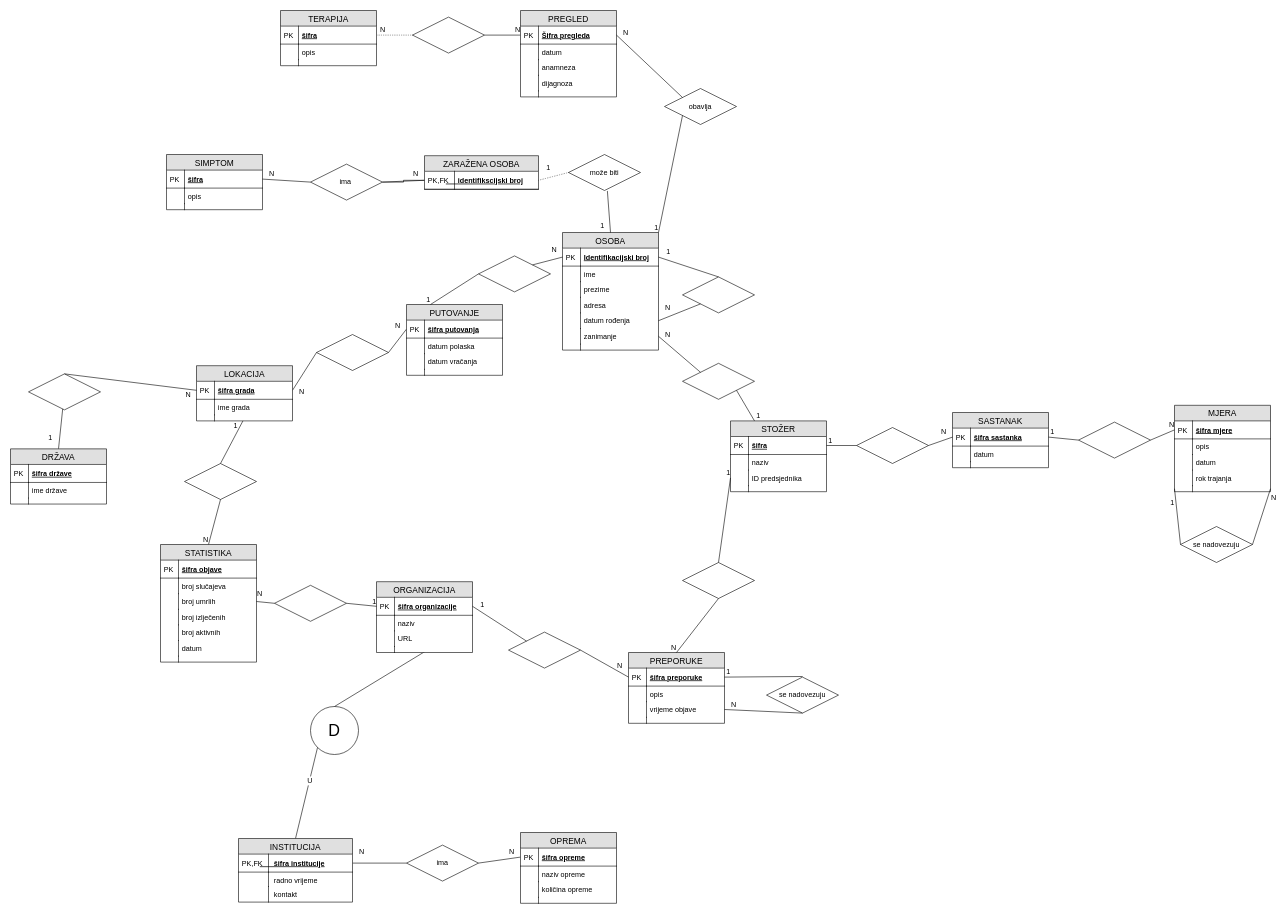
Some shapes in this 1287 by 914 pixel diagram are drawn without their labels. The centre of each missing label's shape, as x and y in pixels:
"definira stanje" goes at pixel 220 481.
"donosi" goes at pixel 718 580.
"je bila na" goes at pixel 514 273.
"je bilo u" goes at pixel 352 352.
"je član" goes at pixel 718 381.
"objavljuje" goes at pixel 310 603.
"određuje" goes at pixel 448 34.
"održava" goes at pixel 892 445.
"preporučuje" goes at pixel 544 650.
"se dogovara" goes at pixel 1114 440.
"se nalazi u" goes at pixel 64 391.
"u kontaktu" goes at pixel 718 294.
